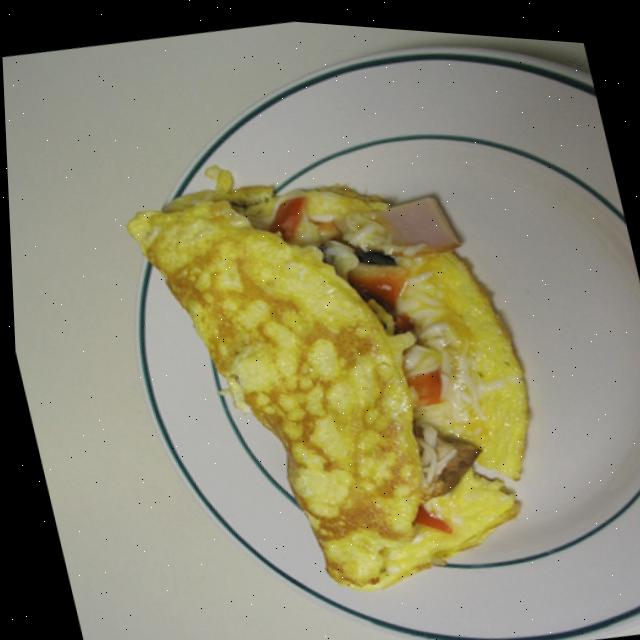鸡蛋料理: (70, 55, 596, 640)
